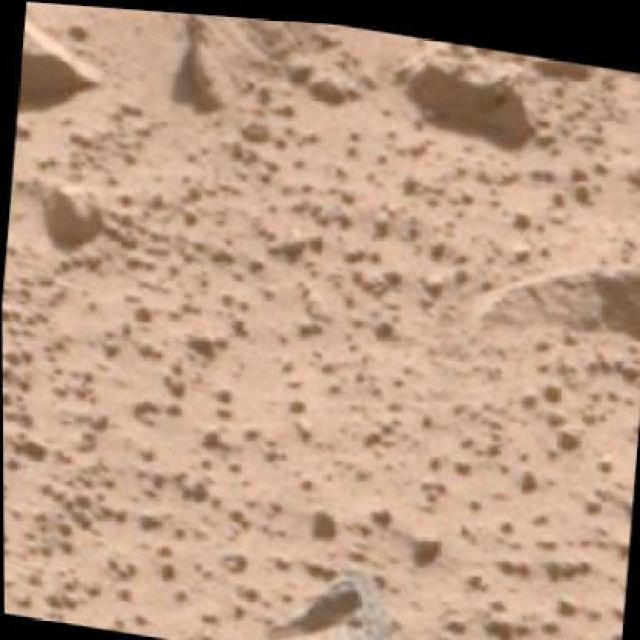rock: (2, 492, 546, 638), (160, 10, 331, 135), (410, 42, 539, 135), (18, 1, 114, 104)
